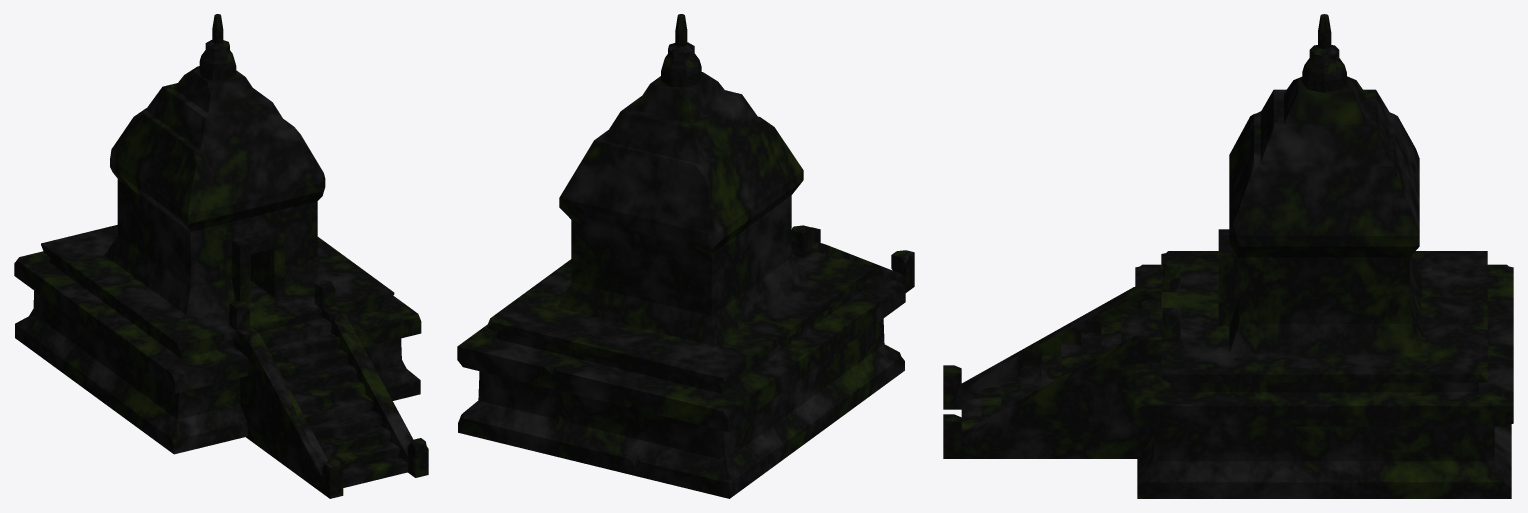
The model's file is candi mini boss.fbx.
The picture shows the model from 3 angles, left to right: view 1: azimuth 30°, elevation 25°; view 2: azimuth 150°, elevation 25°; view 3: azimuth 270°, elevation 25°; orthographic projection. The views are drawn at different scales.
Parts seen in each view (by area): view 1: fondasi.001; view 2: fondasi.001; view 3: fondasi.001.
Boxes of the visible parts, x1,y1,x2,y2 form: fondasi.001: [14, 14, 428, 498]; fondasi.001: [457, 14, 914, 498]; fondasi.001: [943, 14, 1513, 498].
Bounding box in the file's own units: 3706 × 5067 × 6311.
